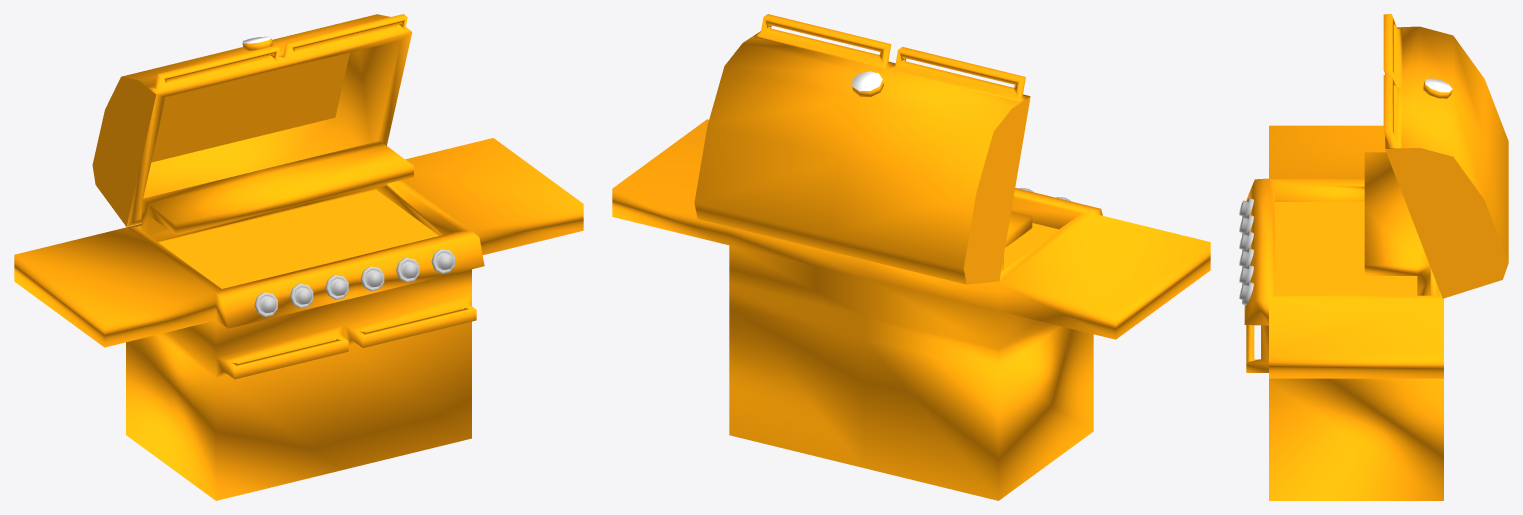
File: BarbecueGrillGoldOpened.glb
3 views of the same model, side by side, from view 1: azimuth 30°, elevation 25°; view 2: azimuth 150°, elevation 25°; view 3: azimuth 270°, elevation 25° (orthographic). The views are drawn at different scales.
Parts seen in each view (by area): view 1: BarbecueGrillGoldOpened; view 2: BarbecueGrillGoldOpened; view 3: BarbecueGrillGoldOpened.
Boxes of the visible parts, bbox=[...] form: BarbecueGrillGoldOpened: bbox=[14, 14, 583, 500]; BarbecueGrillGoldOpened: bbox=[612, 14, 1210, 500]; BarbecueGrillGoldOpened: bbox=[1239, 14, 1508, 500].
Bounding box in the file's own units: 2.71 × 2.05 × 1.36.
Materials: 1 (1 with a texture image).
